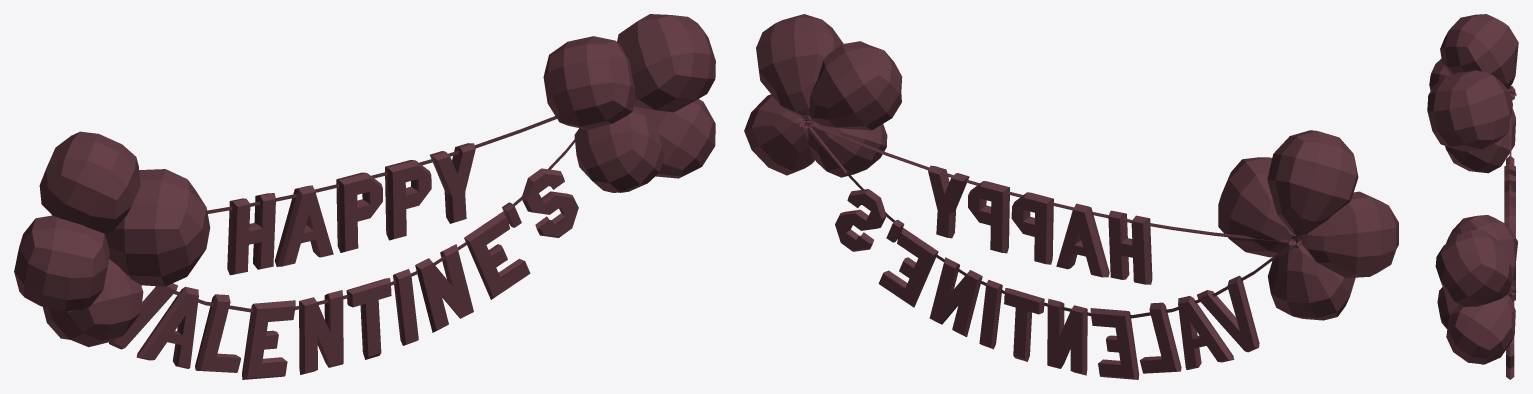
File: balloons-sign-happy-valentines.fbx
3 renders of one model, left to right at view 1: azimuth 30°, elevation 25°; view 2: azimuth 150°, elevation 25°; view 3: azimuth 270°, elevation 25°, orthographic. The views are drawn at different scales.
Visible parts, largest first — view 1: balloons-sign-happy-valentines; view 2: balloons-sign-happy-valentines; view 3: balloons-sign-happy-valentines.
Boxes of the visible parts, x1,y1,x2,y2 form: balloons-sign-happy-valentines: (14, 14, 715, 379); balloons-sign-happy-valentines: (744, 14, 1398, 379); balloons-sign-happy-valentines: (1427, 14, 1518, 379).
Bounding box in the file's own units: 2.59 × 1.09 × 0.3934.
